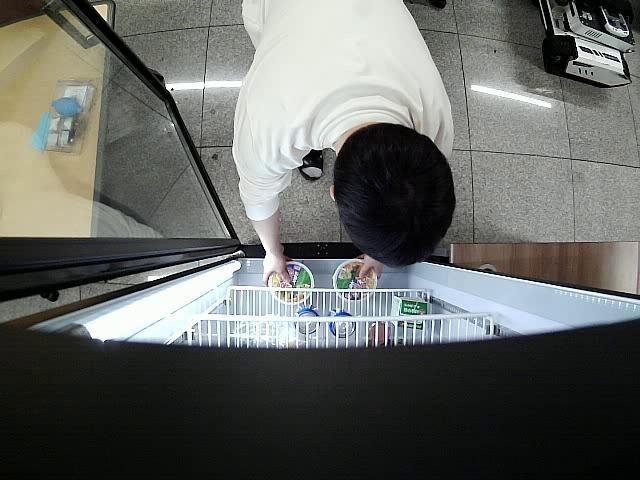09_yukGaeJang: (333, 260, 378, 302), (272, 262, 314, 306)
